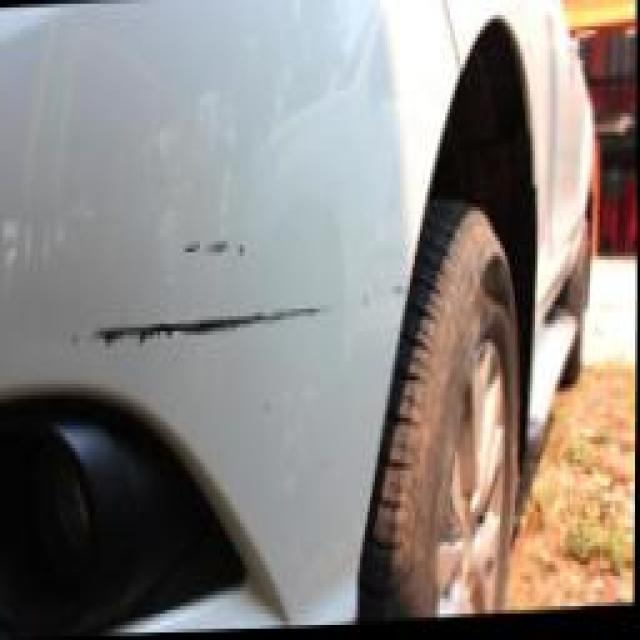Bumper: (24, 174, 438, 430)
